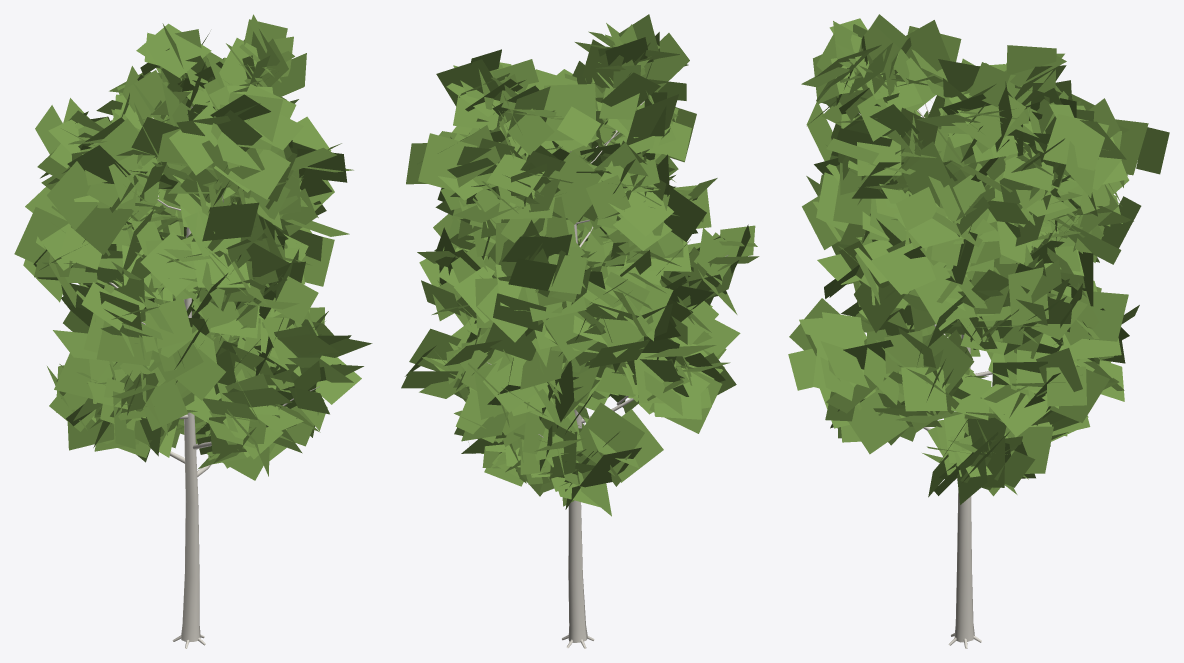
The model's file is birch-0-lod0.glb.
The picture shows the model from 3 angles, left to right: view 1: azimuth 30°, elevation 25°; view 2: azimuth 150°, elevation 25°; view 3: azimuth 270°, elevation 25°; orthographic projection. The views are drawn at different scales.
Parts seen in each view (by area): view 1: birch-0-lod0-foliage, birch-0-lod0-bark; view 2: birch-0-lod0-foliage, birch-0-lod0-bark; view 3: birch-0-lod0-foliage, birch-0-lod0-bark.
Boxes of the visible parts, bbox=[...] form: birch-0-lod0-foliage: bbox=[14, 14, 372, 480]; birch-0-lod0-bark: bbox=[109, 106, 319, 648]; birch-0-lod0-foliage: bbox=[401, 14, 759, 516]; birch-0-lod0-bark: bbox=[487, 101, 728, 648]; birch-0-lod0-foliage: bbox=[788, 14, 1169, 504]; birch-0-lod0-bark: bbox=[859, 103, 992, 648].
Bounding box in the file's own units: 9.94 × 19.2 × 10.77.
